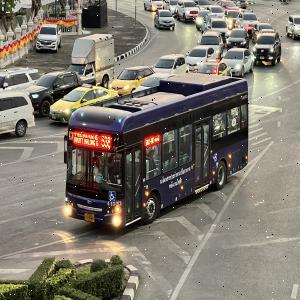Bus Line Number: (100, 133, 112, 151)
Bus Side Number: (106, 200, 122, 207)
Destination Sign: (73, 131, 99, 148)
TSB-Bus: (64, 72, 249, 230)
